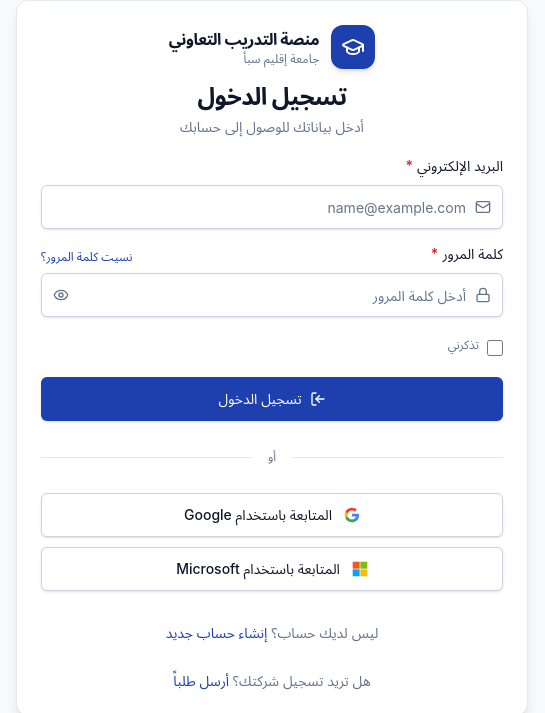
Scenario: LoginForm Component (TEP-562) › displays client-side validation errors when submitting empty form
This screenshot has width=545, height=713.
Click the button "تسجيل الدخول" at point(272, 399), box left=41, top=377, right=503, bottom=421
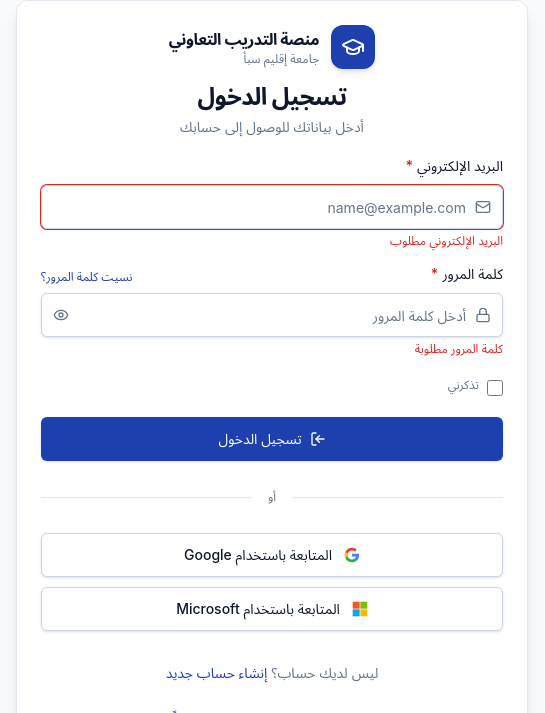
Expected: the text "البريد الإلكتروني مطلوب" is shown, left=390, top=233, right=503, bottom=248
Expected: the text "كلمة المرور مطلوبة" is shown, left=415, top=341, right=503, bottom=356
